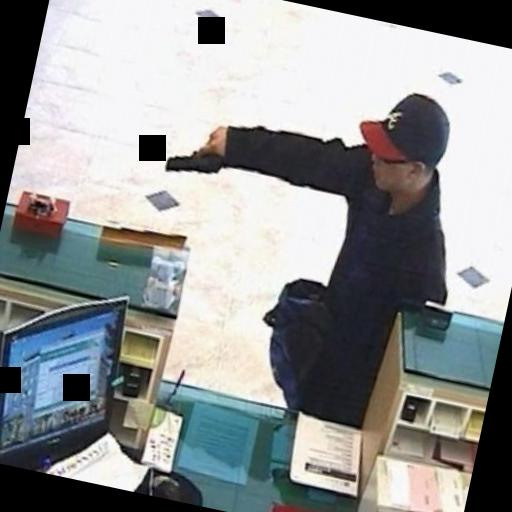Handgun: (164, 128, 230, 180)
